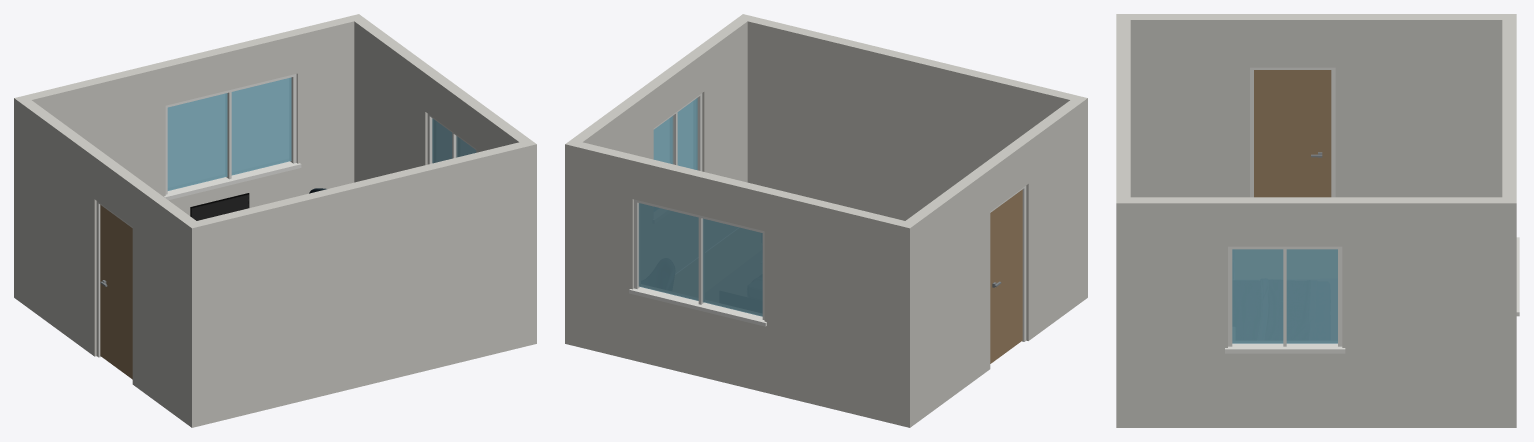
File: layoutgpt.glb
3 renders of one model, left to right at view 1: azimuth 30°, elevation 25°; view 2: azimuth 150°, elevation 25°; view 3: azimuth 270°, elevation 25°, orthographic. The views are drawn at different scales.
Visible parts, largest first — view 1: wall|scenesmith_000__R00|0, wall|scenesmith_000__R00|2, wall|scenesmith_000__R00|1, wall|scenesmith_000__R00|3, wall|scenesmith_000__R00|1 Window 0 | glazing, wall|scenesmith_000__R00|2 Door 0 | wood leaf, wall|scenesmith_000__R00|1 Window 0 | jamb, wall|scenesmith_000__R00|3 Window 0 | glazing, scenesmith_000__R00_5, wall|scenesmith_000__R00|2 Door 0 | jamb, wall|scenesmith_000__R00|3 Window 0 | jamb; view 2: wall|scenesmith_000__R00|1, wall|scenesmith_000__R00|0, wall|scenesmith_000__R00|2, wall|scenesmith_000__R00|3, wall|scenesmith_000__R00|1 Window 0 | glazing, wall|scenesmith_000__R00|2 Door 0 | wood leaf, wall|scenesmith_000__R00|1 Window 0 | jamb, wall|scenesmith_000__R00|3 Window 0 | glazing, wall|scenesmith_000__R00|3 Window 0 | jamb, wall|scenesmith_000__R00|2 Door 0 | jamb; view 3: wall|scenesmith_000__R00|3, wall|scenesmith_000__R00|2, wall|scenesmith_000__R00|2 Door 0 | wood leaf, wall|scenesmith_000__R00|3 Window 0 | glazing, wall|scenesmith_000__R00|3 Window 0 | jamb, wall|scenesmith_000__R00|0, wall|scenesmith_000__R00|1, wall|scenesmith_000__R00|2 Door 0 | jamb.
Boxes of the visible parts, <box> form: wall|scenesmith_000__R00|0: <box>185,142,526,427</box>; wall|scenesmith_000__R00|2: <box>14,95,202,427</box>; wall|scenesmith_000__R00|1: <box>25,16,354,215</box>; wall|scenesmith_000__R00|3: <box>348,14,536,346</box>; wall|scenesmith_000__R00|1 Window 0 | glazing: <box>167,77,291,190</box>; wall|scenesmith_000__R00|2 Door 0 | wood leaf: <box>100,205,132,379</box>; wall|scenesmith_000__R00|1 Window 0 | jamb: <box>163,74,301,200</box>; wall|scenesmith_000__R00|3 Window 0 | glazing: <box>432,118,476,163</box>; scenesmith_000__R00_5: <box>190,193,249,220</box>; wall|scenesmith_000__R00|2 Door 0 | jamb: <box>96,201,132,357</box>; wall|scenesmith_000__R00|3 Window 0 | jamb: <box>427,114,476,164</box>; wall|scenesmith_000__R00|1: <box>576,142,904,425</box>; wall|scenesmith_000__R00|0: <box>747,16,1087,301</box>; wall|scenesmith_000__R00|2: <box>899,95,1087,427</box>; wall|scenesmith_000__R00|3: <box>565,14,753,346</box>; wall|scenesmith_000__R00|1 Window 0 | glazing: <box>638,203,762,316</box>; wall|scenesmith_000__R00|2 Door 0 | wood leaf: <box>990,189,1022,363</box>; wall|scenesmith_000__R00|1 Window 0 | jamb: <box>629,199,766,326</box>; wall|scenesmith_000__R00|3 Window 0 | glazing: <box>653,98,697,170</box>; wall|scenesmith_000__R00|3 Window 0 | jamb: <box>653,93,702,171</box>; wall|scenesmith_000__R00|2 Door 0 | jamb: <box>990,186,1026,341</box>; wall|scenesmith_000__R00|3: <box>1116,197,1516,427</box>; wall|scenesmith_000__R00|2: <box>1116,14,1516,197</box>; wall|scenesmith_000__R00|2 Door 0 | wood leaf: <box>1254,70,1331,197</box>; wall|scenesmith_000__R00|3 Window 0 | glazing: <box>1232,249,1337,343</box>; wall|scenesmith_000__R00|3 Window 0 | jamb: <box>1225,246,1345,353</box>; wall|scenesmith_000__R00|0: <box>1116,20,1130,197</box>; wall|scenesmith_000__R00|1: <box>1502,20,1516,197</box>; wall|scenesmith_000__R00|2 Door 0 | jamb: <box>1250,67,1335,197</box>.
Size of the model in its own units: 4.73 by 2.61 by 4.23.
Materials: 12 (5 with a texture image).
